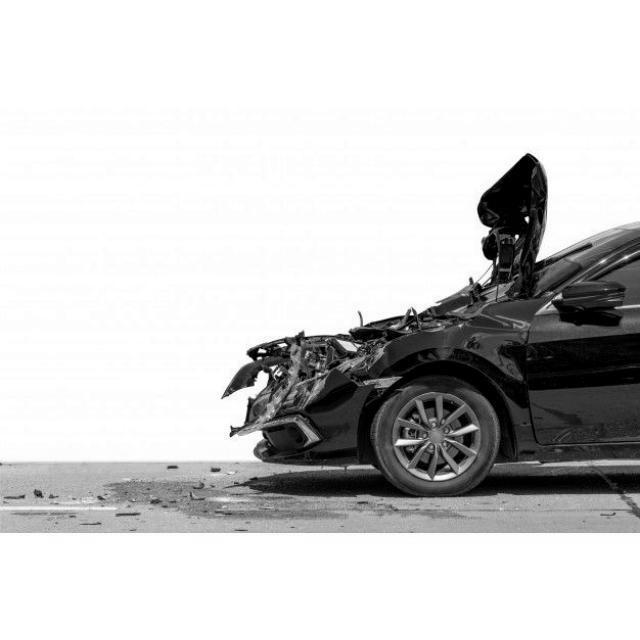Headlight-damage: (292, 339, 386, 376)
bonnet-dent: (487, 156, 545, 303), (309, 303, 468, 353)
fender-dent: (424, 324, 520, 383)
front-bumper-dent: (227, 345, 312, 460)
